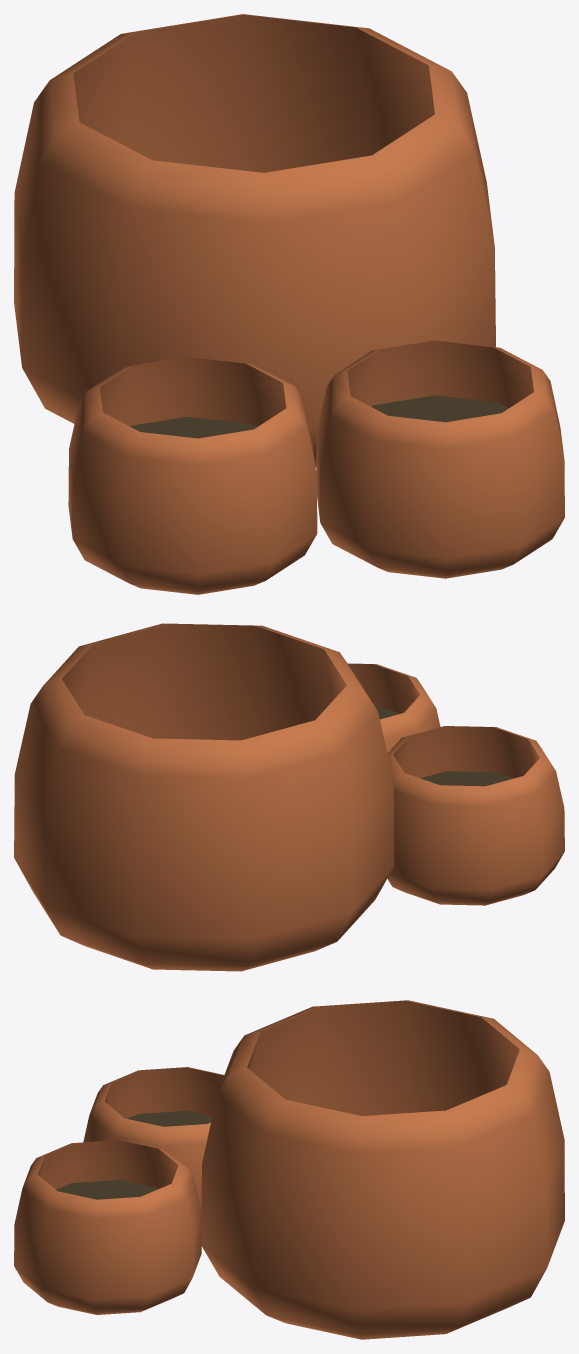
The model's file is flowerpots.fbx.
3 views of the same model, one above another, from view 1: azimuth 30°, elevation 25°; view 2: azimuth 150°, elevation 25°; view 3: azimuth 270°, elevation 25° (orthographic). The views are drawn at different scales.
Visible parts, largest first — view 1: flowerpots; view 2: flowerpots; view 3: flowerpots.
Boxes of the visible parts, left/top/right/bottom form: flowerpots: left=14, top=14, right=564, bottom=594; flowerpots: left=14, top=623, right=564, bottom=971; flowerpots: left=14, top=1000, right=564, bottom=1339.
Size of the model in its own units: 183 by 102 by 224.
